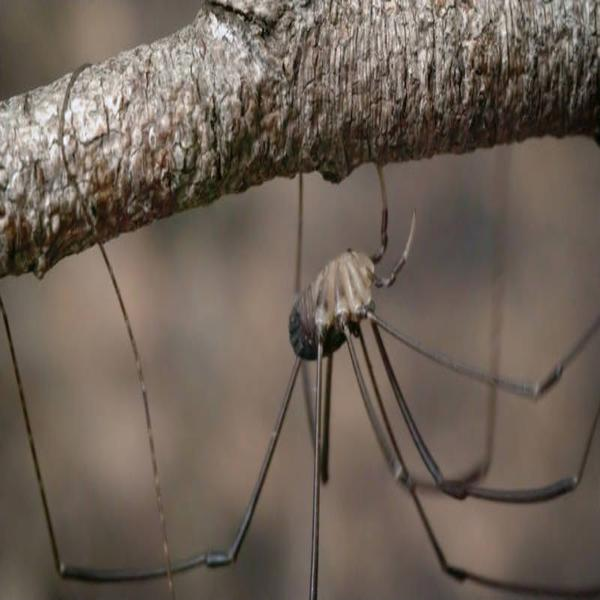Daddy Long Legs Spider: (11, 81, 599, 600)
